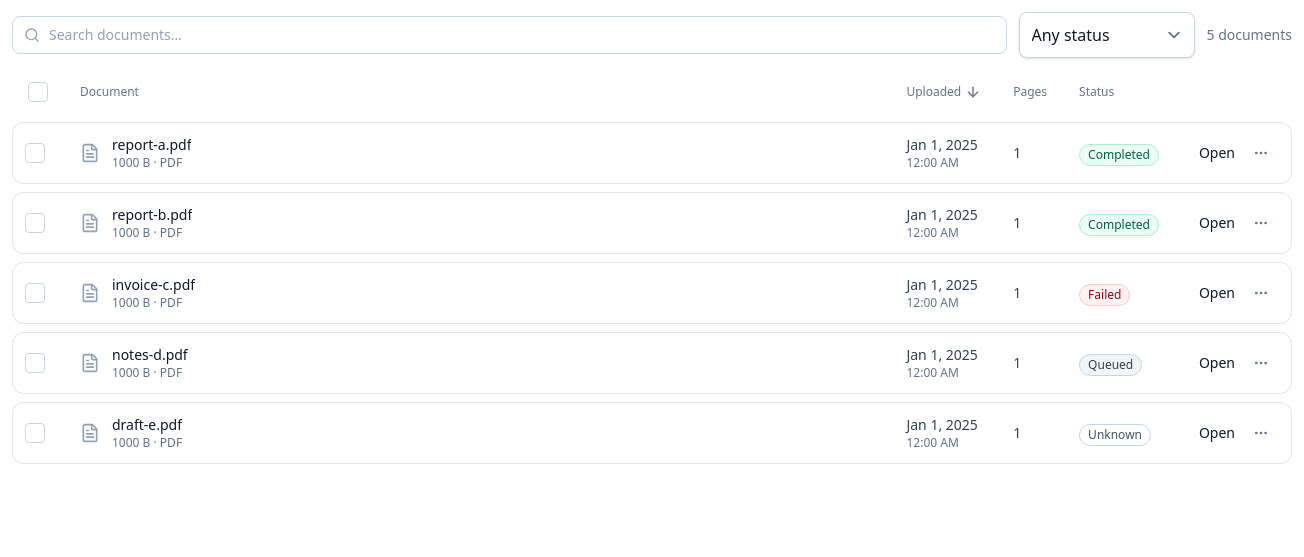
selecting rows shows a bulk action bar with the count
What coordinates should you click on to do the following:
click the checkbox named "Select report-a.pdf"
I would click on:
 (35, 153)
Its box is 25,143 -> 45,163.
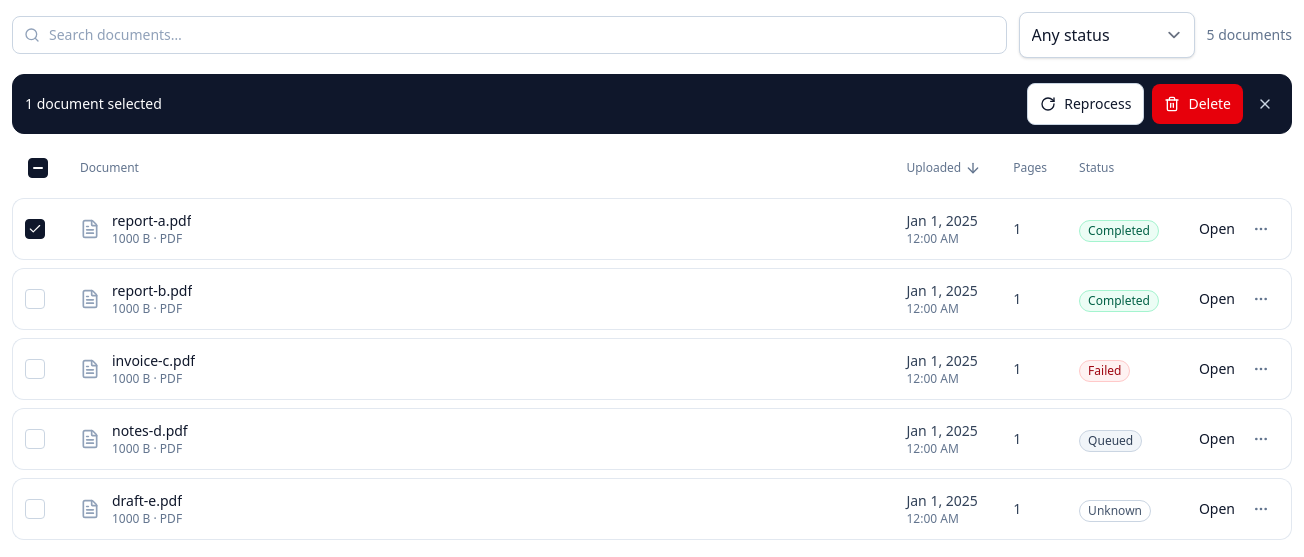
What coordinates should you click on to do the following:
click the checkbox named "Select report-b.pdf"
I would click on:
 (35, 299)
Its box is 25,289 -> 45,309.
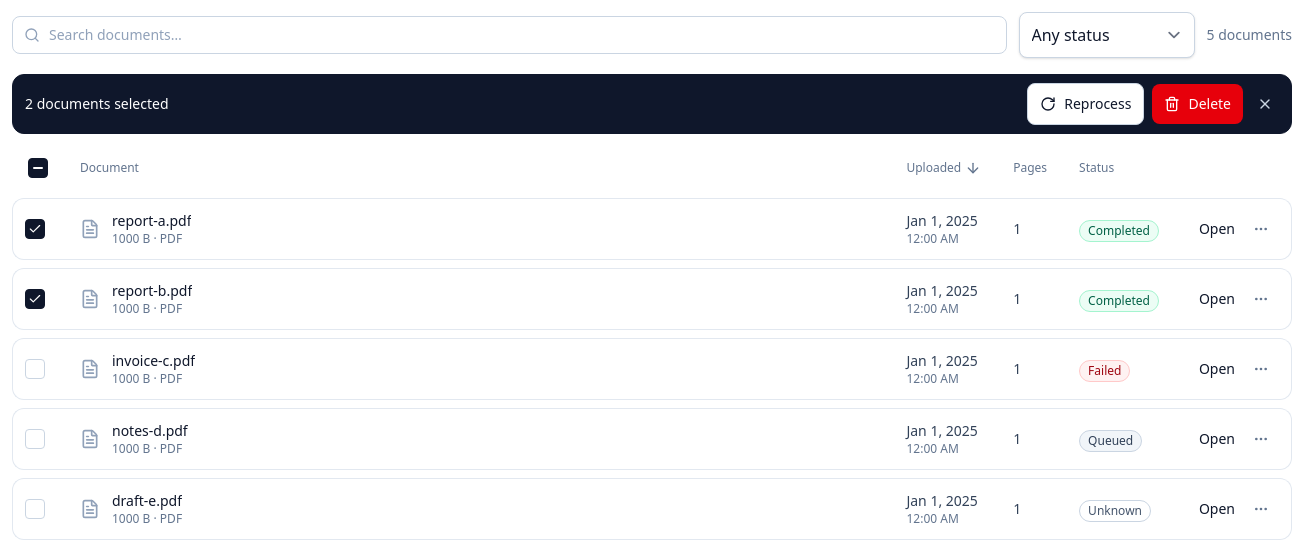
Result: the button "Reprocess" is shown at 1027,83 -> 1144,125
Result: the button "Delete" is shown at 1152,84 -> 1243,124
Result: the text "2 documents selected" is shown at 25,94 -> 168,114
